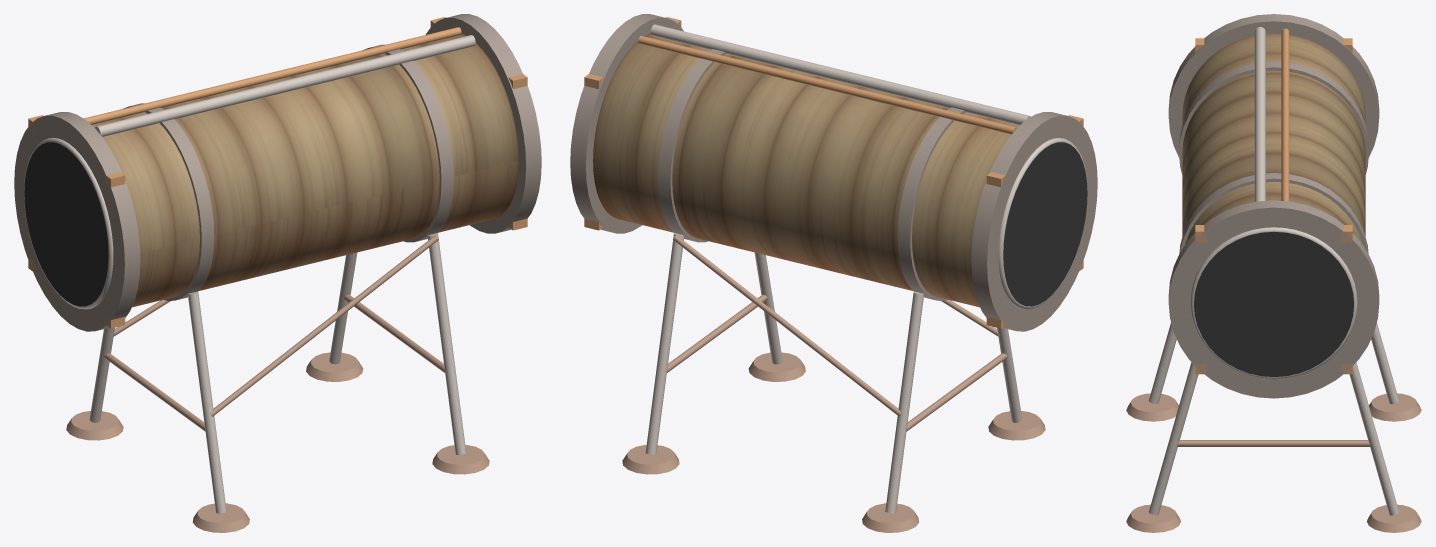
The model's file is W05_tunnel_straight.glb.
3 views of the same model, side by side, from view 1: azimuth 30°, elevation 25°; view 2: azimuth 150°, elevation 25°; view 3: azimuth 270°, elevation 25° (orthographic). The views are drawn at different scales.
Visible parts, largest first — view 1: tube, docking_flange (×2), opening, cable_duct (×2), leg (×4), support_ring (×2), footpad (×4), diagonal, cross_brace (×2), seal; view 2: tube, docking_flange (×2), opening, cable_duct (×2), leg (×4), support_ring (×2), footpad (×4), diagonal, cross_brace (×2), seal; view 3: tube, docking_flange (×2), opening, leg (×4), footpad (×4), support_ring (×2), cable_duct (×2), seal, cross_brace.
Part boxes in pixels (left/top/right/bottom): tube: left=92, top=33, right=518, bottom=307; docking_flange (×2): left=14, top=14, right=541, bottom=331; opening: left=24, top=142, right=108, bottom=306; cable_duct (×2): left=84, top=27, right=475, bottom=136; leg (×4): left=89, top=233, right=466, bottom=513; support_ring (×2): left=123, top=44, right=453, bottom=300; footpad (×4): left=66, top=352, right=489, bottom=532; diagonal: left=210, top=235, right=438, bottom=416; cross_brace (×2): left=104, top=294, right=444, bottom=431; seal: left=24, top=138, right=113, bottom=309; tube: left=593, top=33, right=1019, bottom=307; docking_flange (×2): left=570, top=14, right=1097, bottom=331; opening: left=1003, top=142, right=1087, bottom=306; cable_duct (×2): left=638, top=24, right=1030, bottom=134; leg (×4): left=645, top=233, right=1022, bottom=513; support_ring (×2): left=658, top=49, right=965, bottom=300; footpad (×4): left=622, top=352, right=1045, bottom=532; diagonal: left=673, top=235, right=901, bottom=416; cross_brace (×2): left=667, top=294, right=1007, bottom=431; seal: left=998, top=138, right=1087, bottom=309; tube: left=1182, top=33, right=1365, bottom=244; docking_flange (×2): left=1168, top=14, right=1379, bottom=398; opening: left=1194, top=231, right=1353, bottom=376; leg (×4): left=1149, top=323, right=1398, bottom=515; footpad (×4): left=1126, top=393, right=1421, bottom=532; support_ring (×2): left=1179, top=61, right=1368, bottom=253; cable_duct (×2): left=1254, top=27, right=1289, bottom=201; seal: left=1190, top=227, right=1357, bottom=378; cross_brace: left=1177, top=440, right=1370, bottom=446.
Bounding box in the file's own units: 4.06 × 3.42 × 2.58.
7 materials, 1 textured.
